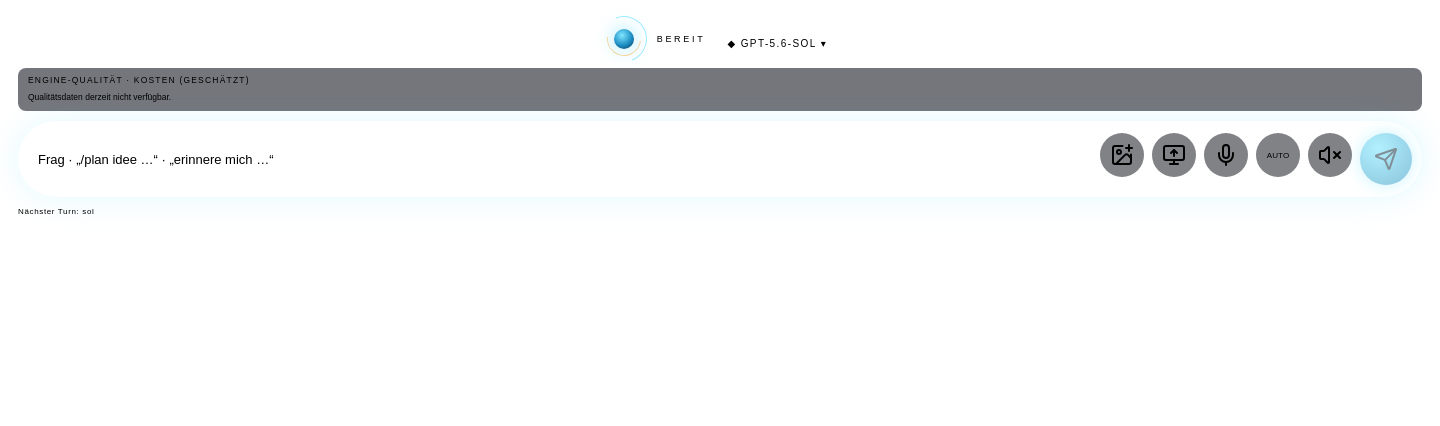
Test case: JarvisChat S3.6 — Vorlese-Toggle (/api/audio/speak) › Toggle ON: fertige Assistant-Antwort wird genau EINMAL abgespielt (kein Doppel-Play)
Click the button named "Antworten vorlesen" at (1330, 155), box left=1308, top=133, right=1352, bottom=177
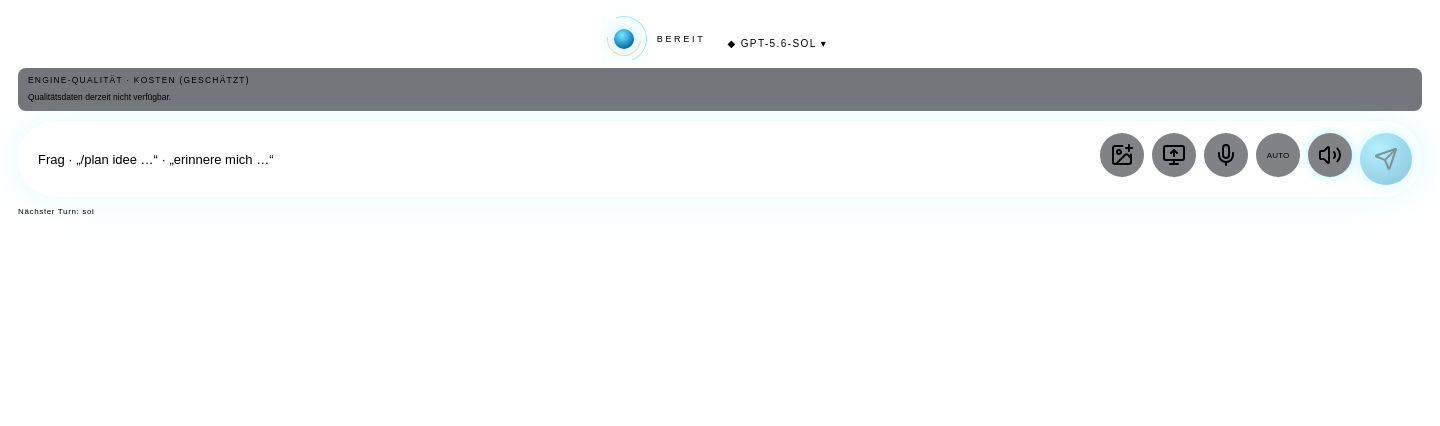
expect the button named "Antworten vorlesen" is pressed: met, box left=1308, top=133, right=1352, bottom=177
Type "was ist offen?" into the field named "Nachricht an Jarvis" at (564, 159), box left=38, top=137, right=1090, bottom=181
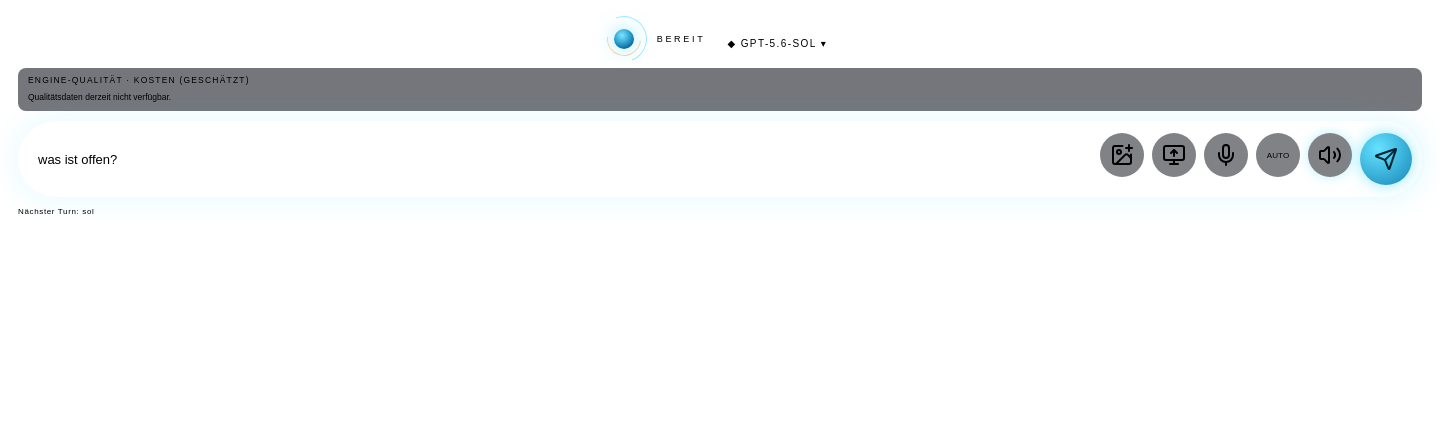
Click the button named "Nachricht senden" at (1386, 159), box left=1360, top=133, right=1412, bottom=185
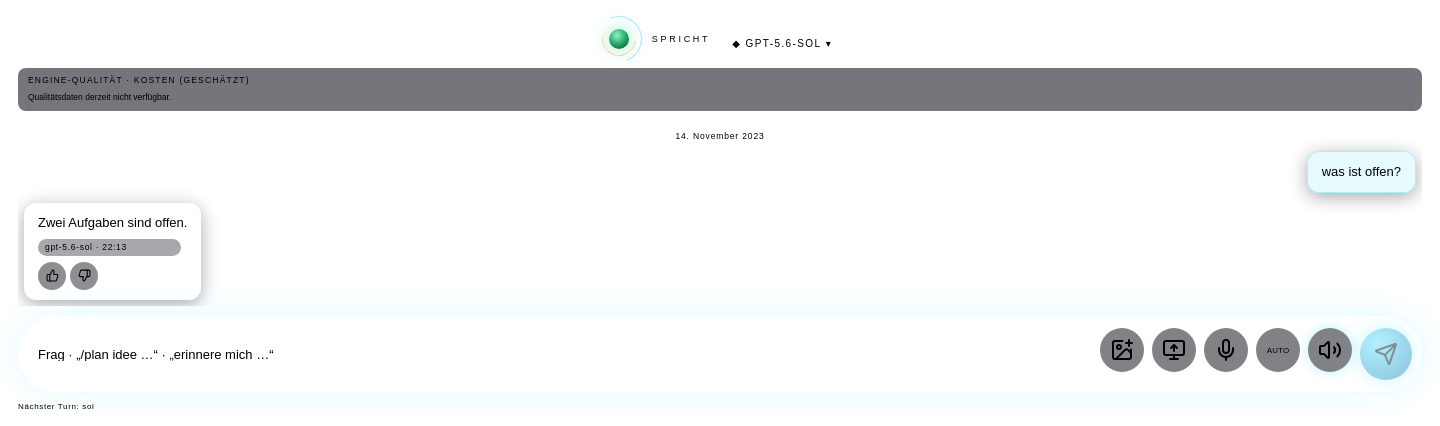
expect the text "Zwei Aufgaben sind offen." is shown: met, box left=38, top=214, right=187, bottom=230
